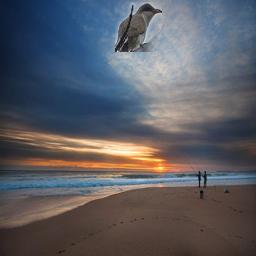Cuckoo: (115, 2, 162, 52)
